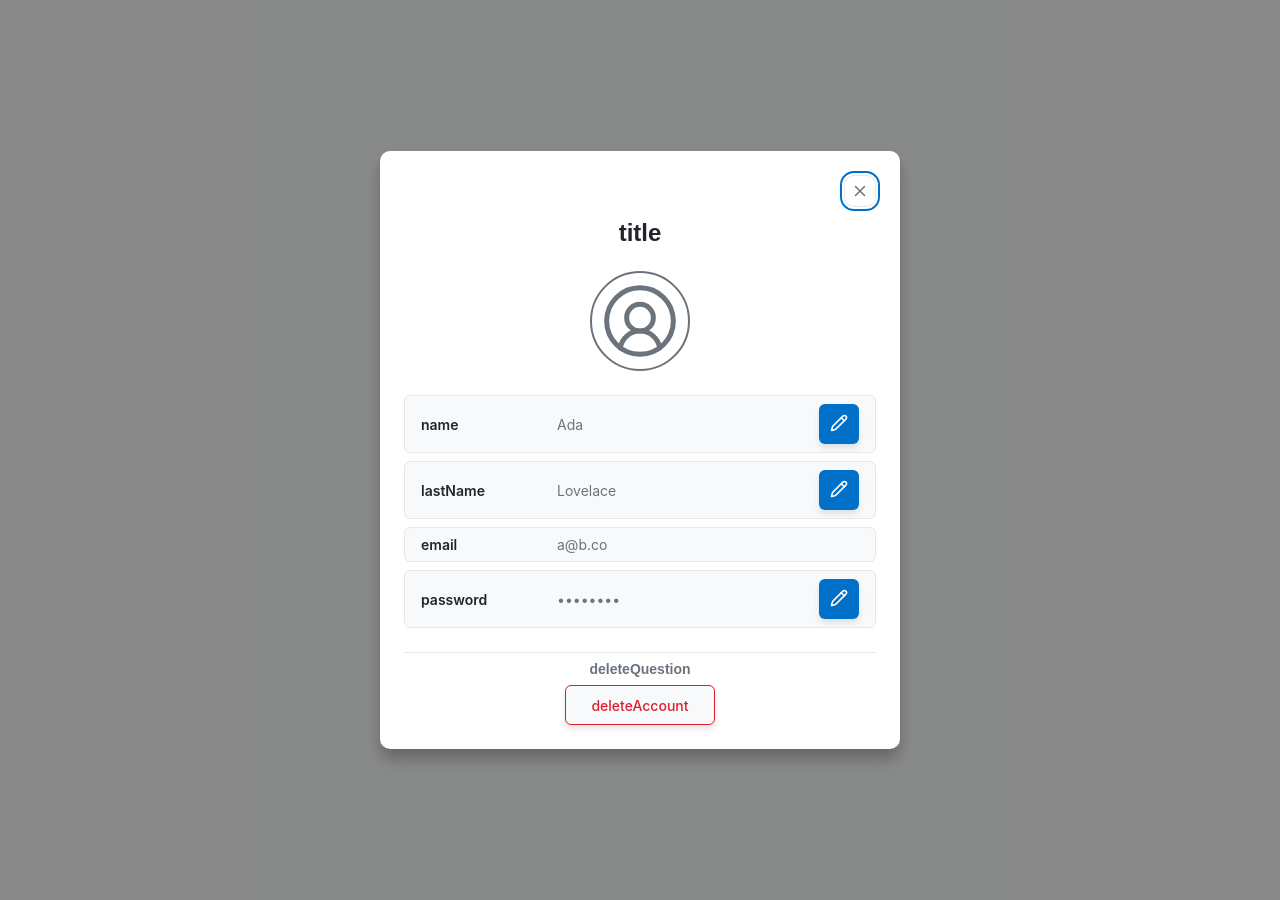
Scenario: Account › edita nombre y apellido; el correo nunca es editable
Click the button named "editField" in the row of "Ada": click(839, 424) [819, 404, 859, 444]
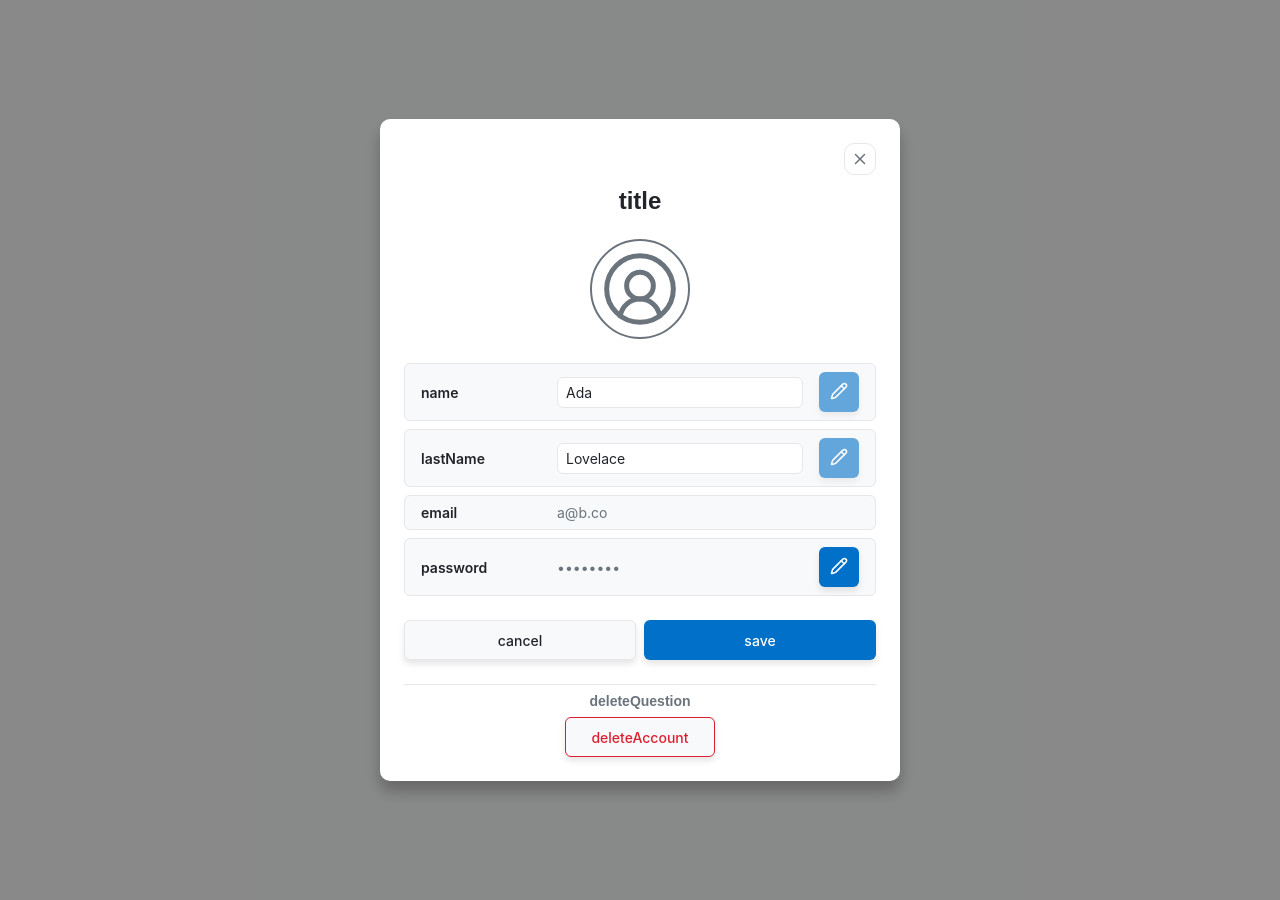
Replace the text in the field labelled "name" with "Grace": (680, 392) [557, 376, 803, 408]
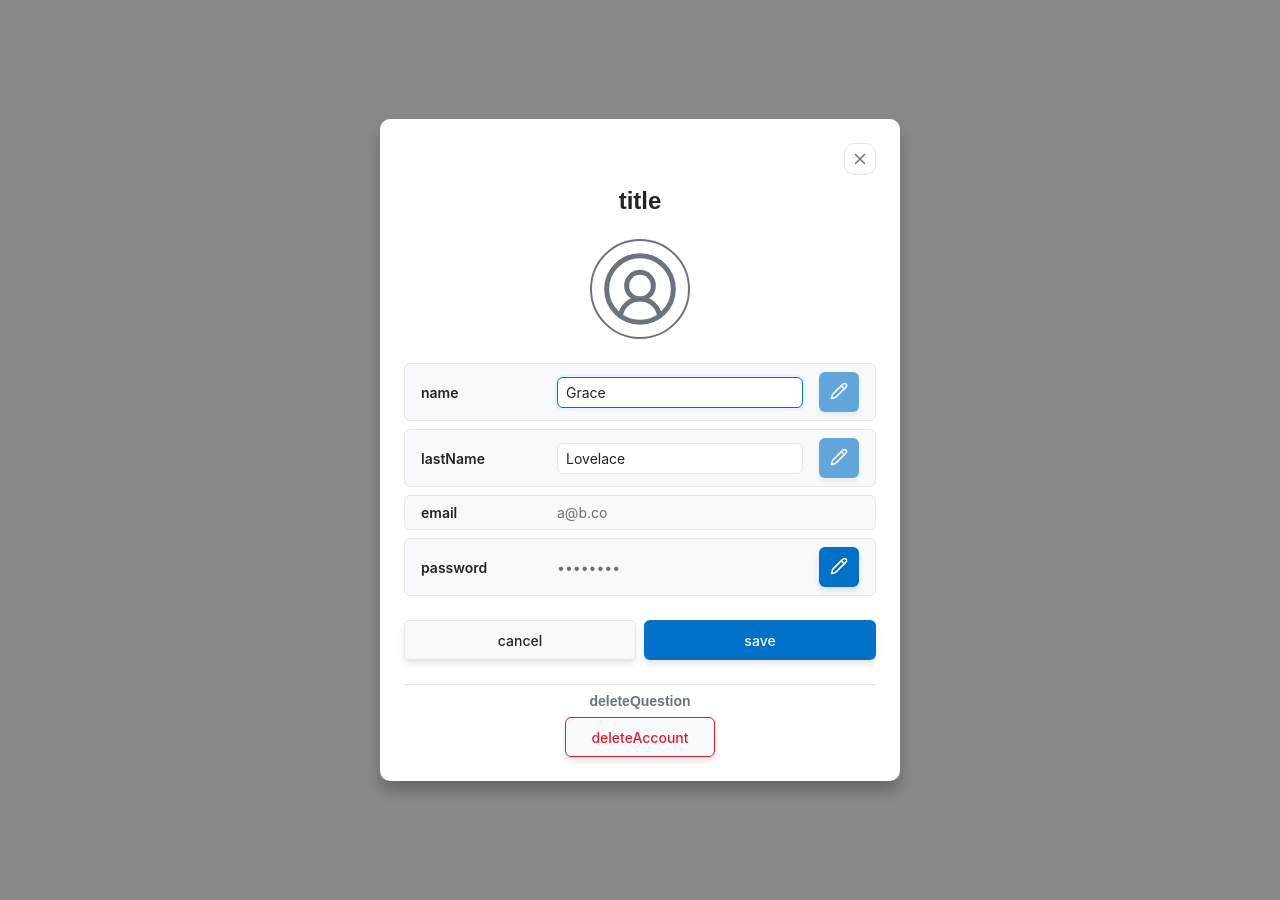
Click the button "save": click(760, 640) [644, 620, 876, 660]
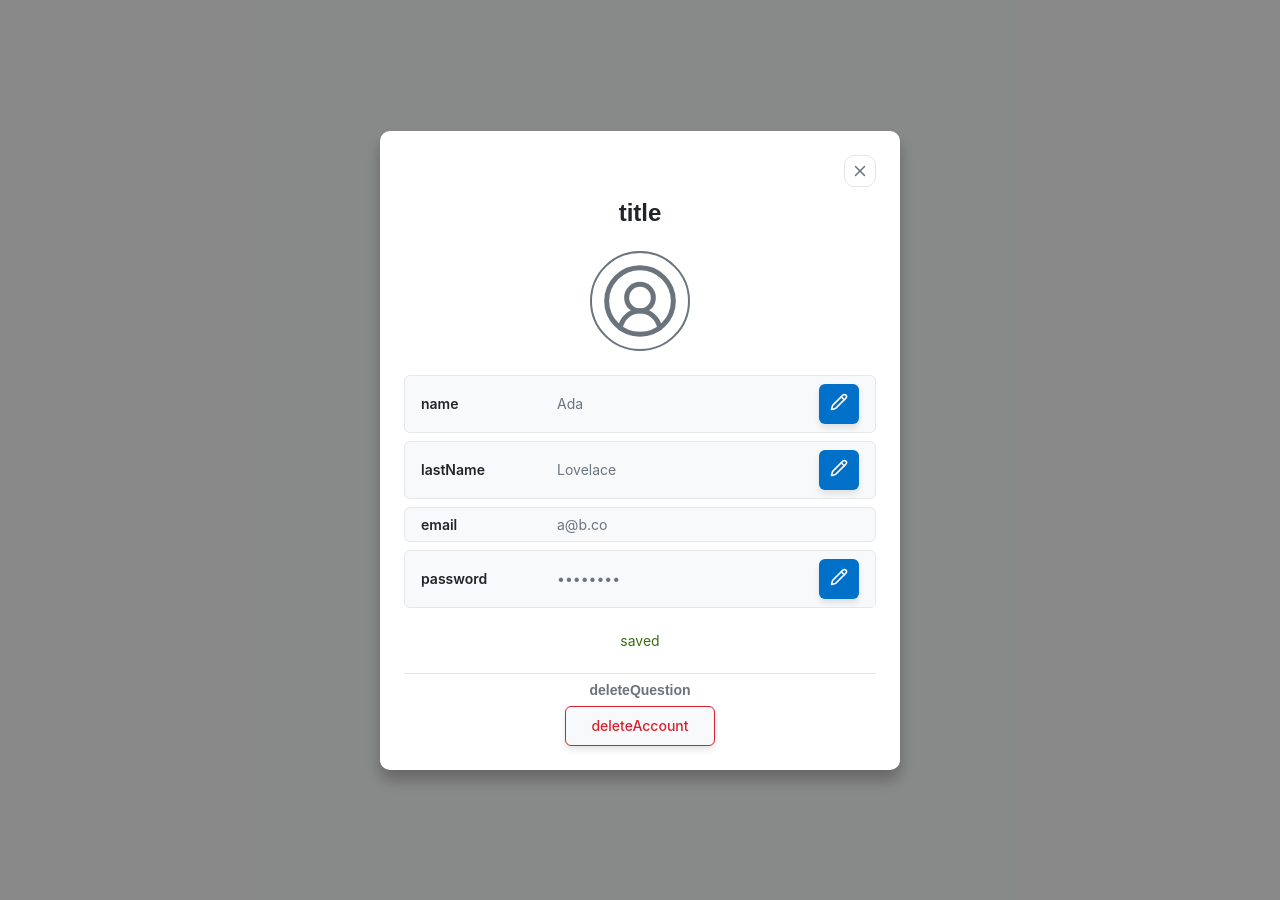
Expected: the text "a@b.co" is shown, [557, 516, 607, 532]
Now the text "saved" is shown, box [620, 632, 660, 648]
Now the number of buttons named "editField" is 2, box [819, 384, 859, 424]; [819, 450, 859, 490]
